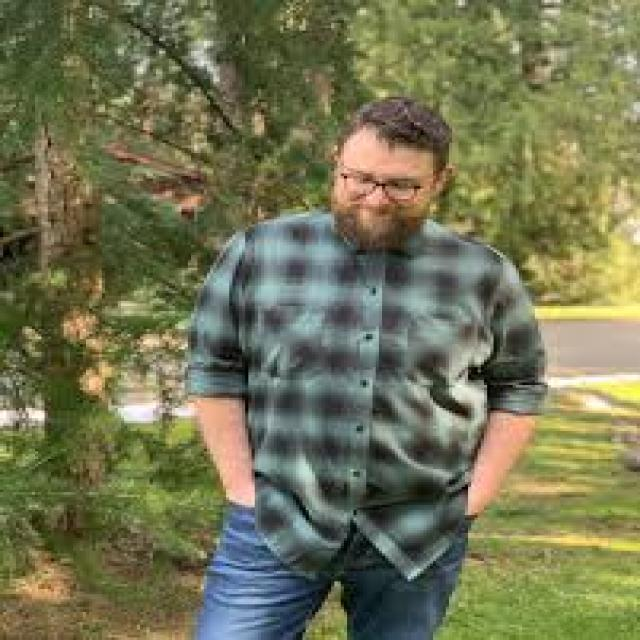plaid: (195, 204, 542, 585)
